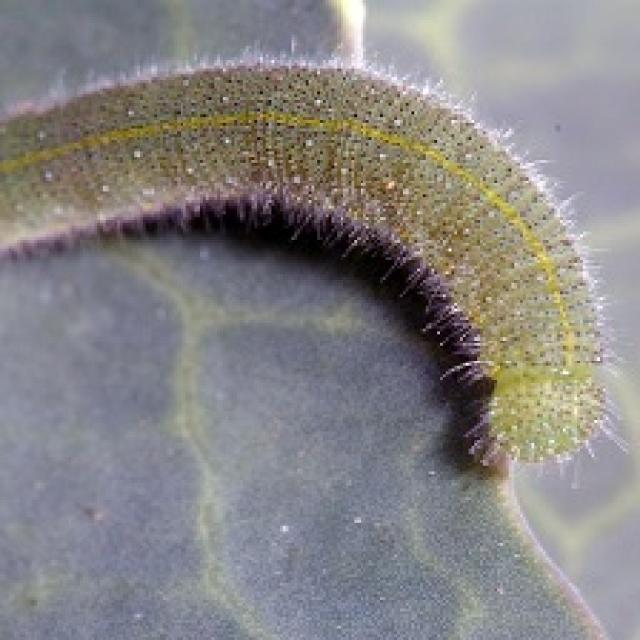Cabbage-worm: (1, 44, 617, 485)
